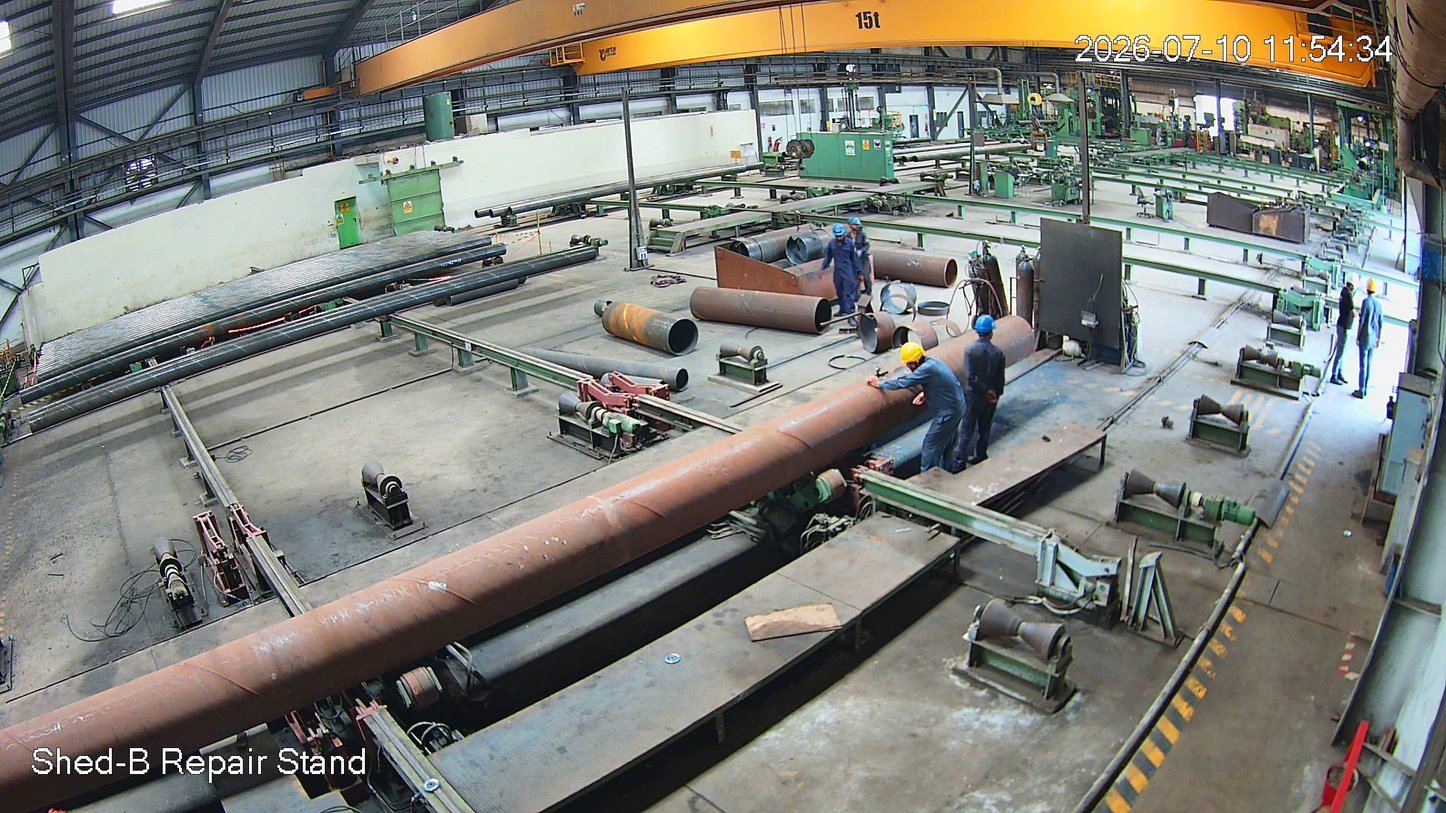Helmet: (896, 330, 935, 378), (970, 308, 1002, 344), (823, 216, 847, 250), (1363, 265, 1380, 311), (1340, 264, 1362, 299), (847, 204, 865, 237)
Person: (891, 334, 967, 477), (961, 311, 1010, 461), (823, 220, 861, 325), (1354, 272, 1384, 400), (1338, 267, 1361, 392), (848, 211, 879, 298)
